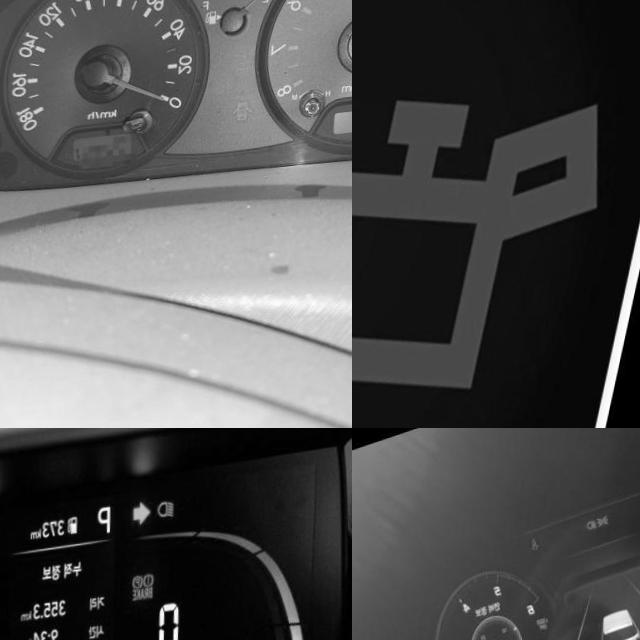Low beam: (160, 508, 179, 528), (589, 524, 600, 536)
SideLamp: (598, 518, 613, 533)
